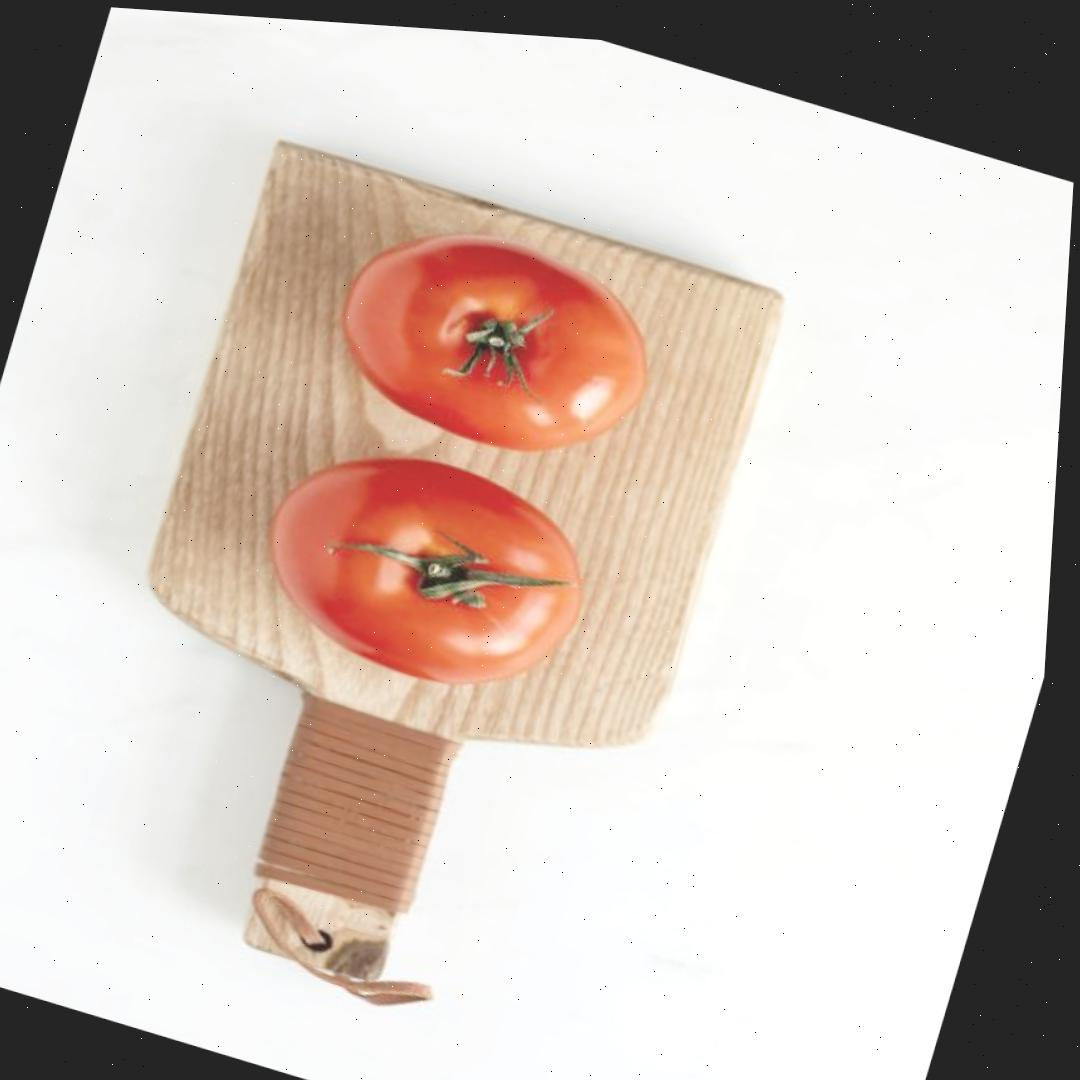matang: (238, 416, 611, 724), (311, 196, 683, 490)
